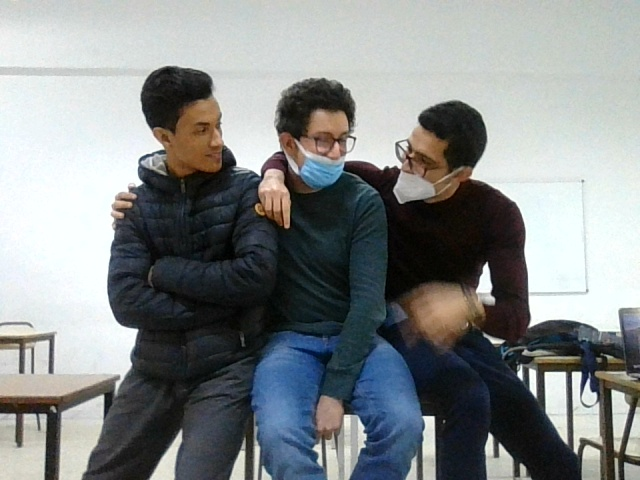mask_weared_incorrect: (392, 97, 490, 205), (281, 75, 359, 188)
without_mask: (149, 75, 231, 178)
